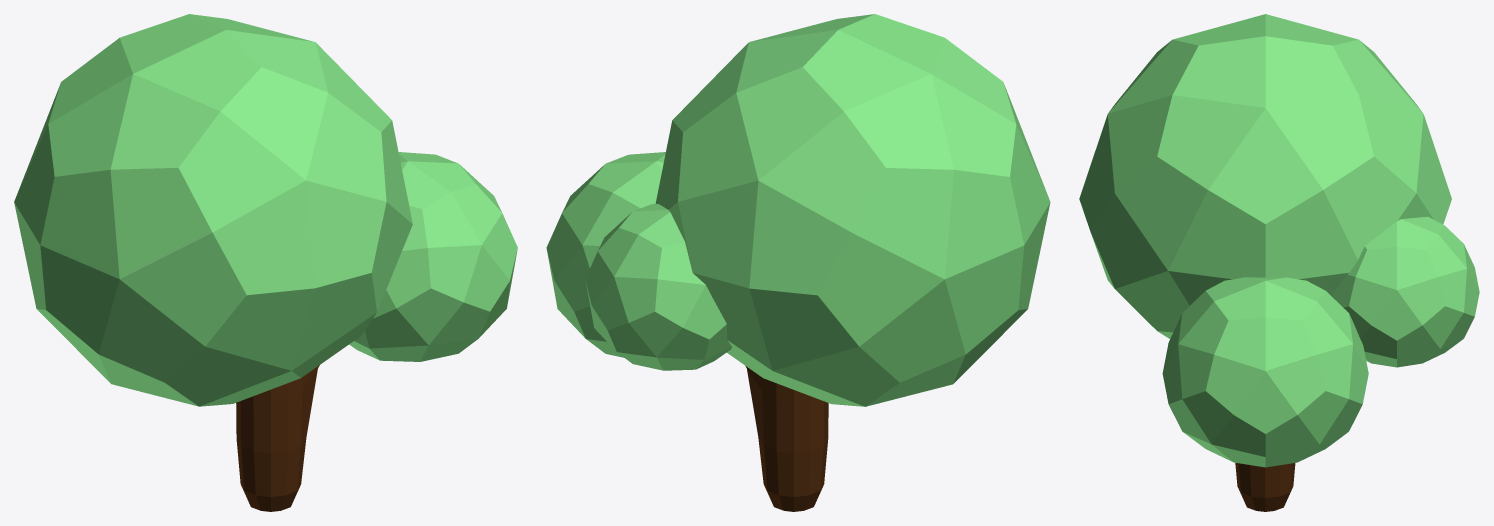
Rendered from Bush.fbx.
3 renders of one model, left to right at view 1: azimuth 30°, elevation 25°; view 2: azimuth 150°, elevation 25°; view 3: azimuth 270°, elevation 25°, orthographic. The views are drawn at different scales.
Parts seen in each view (by area): view 1: Bush; view 2: Bush; view 3: Bush.
Boxes of the visible parts, x1,y1,x2,y2 form: Bush: [14, 14, 517, 511]; Bush: [546, 14, 1050, 511]; Bush: [1079, 14, 1479, 511].
Bounding box in the file's own units: 66.58 × 66.91 × 53.89.
